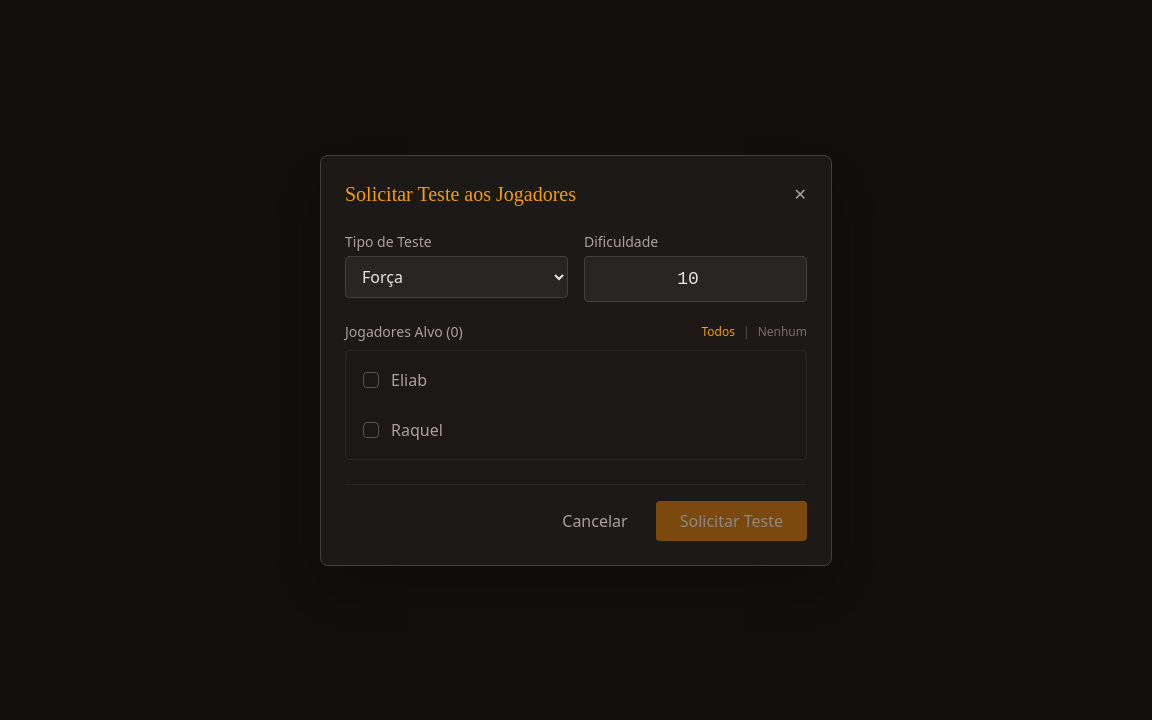
Test: MasterTestDialog: usos do Teste de Fé › a Tentação e o Testemunho têm os atalhos Punição 0, −20 e −50
The image size is (1152, 720).
Select "Fé" in the dropdown: (456,276) [345, 256, 568, 298]
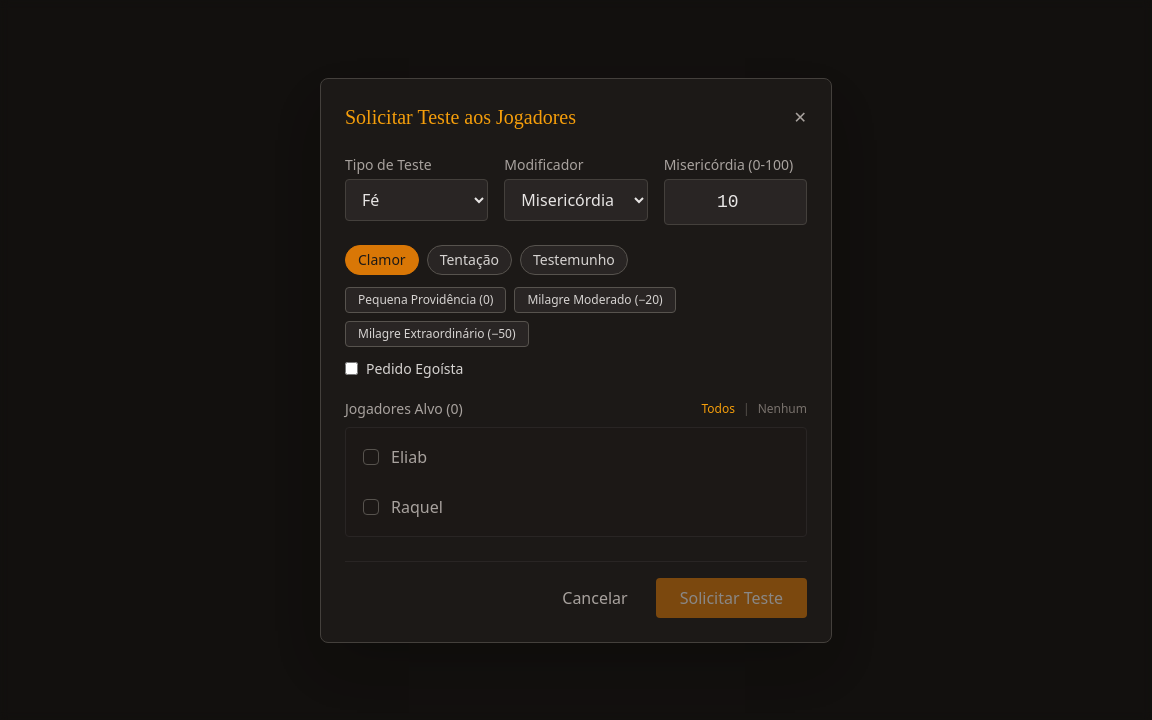
Click the radio button labelled "Tentação": (469,260) [427, 244, 512, 274]
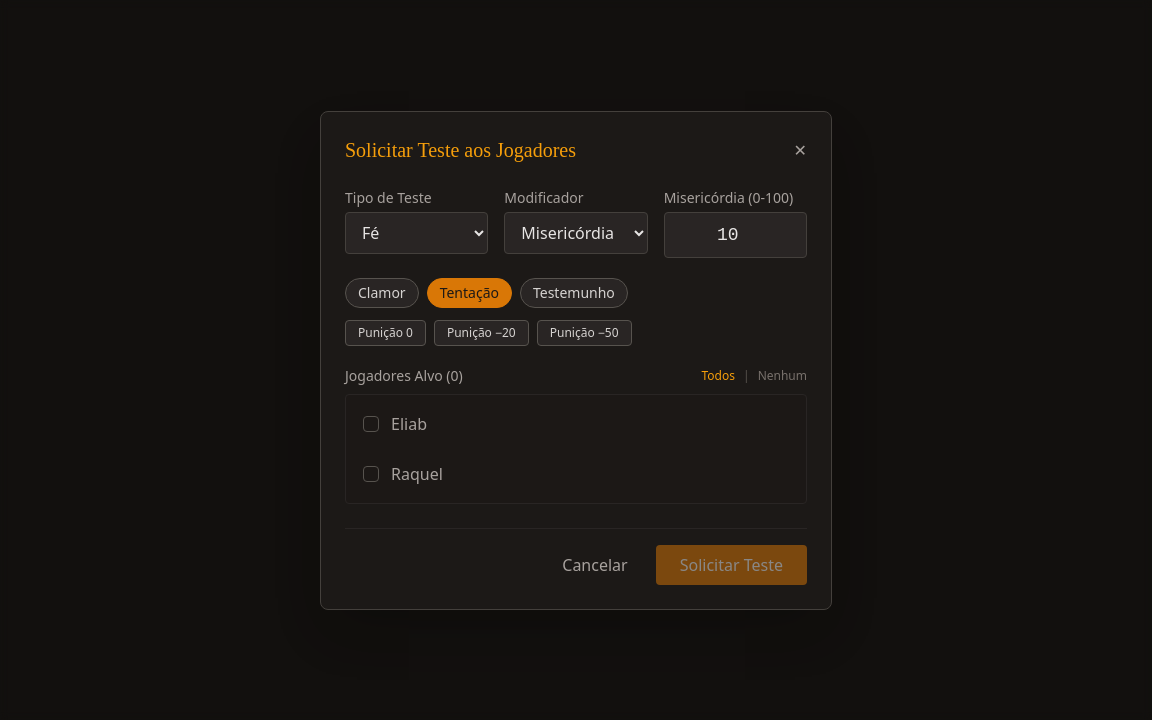
Expected: the button "Milagre Moderado" is gone
Click the button "Punição −50": (584,332) [537, 320, 632, 346]
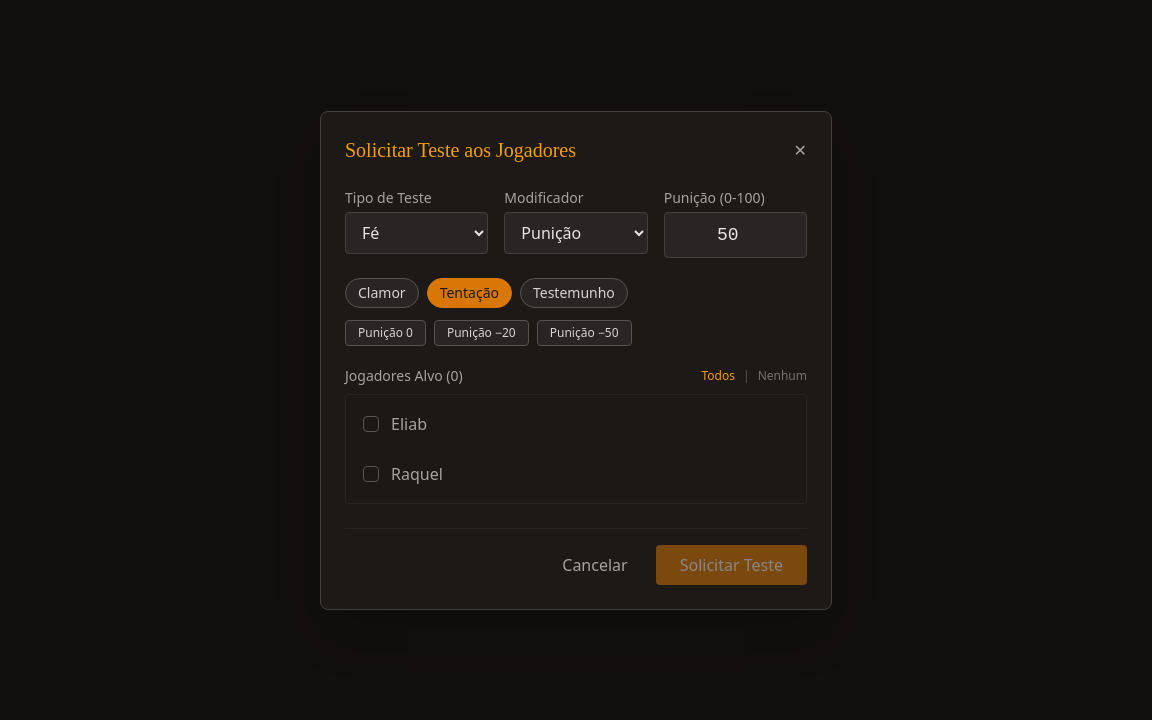
Expected: the number field holds "50", [664, 212, 807, 258]
Click the radio button labelled "Testemunho": (574,292) [520, 278, 628, 308]
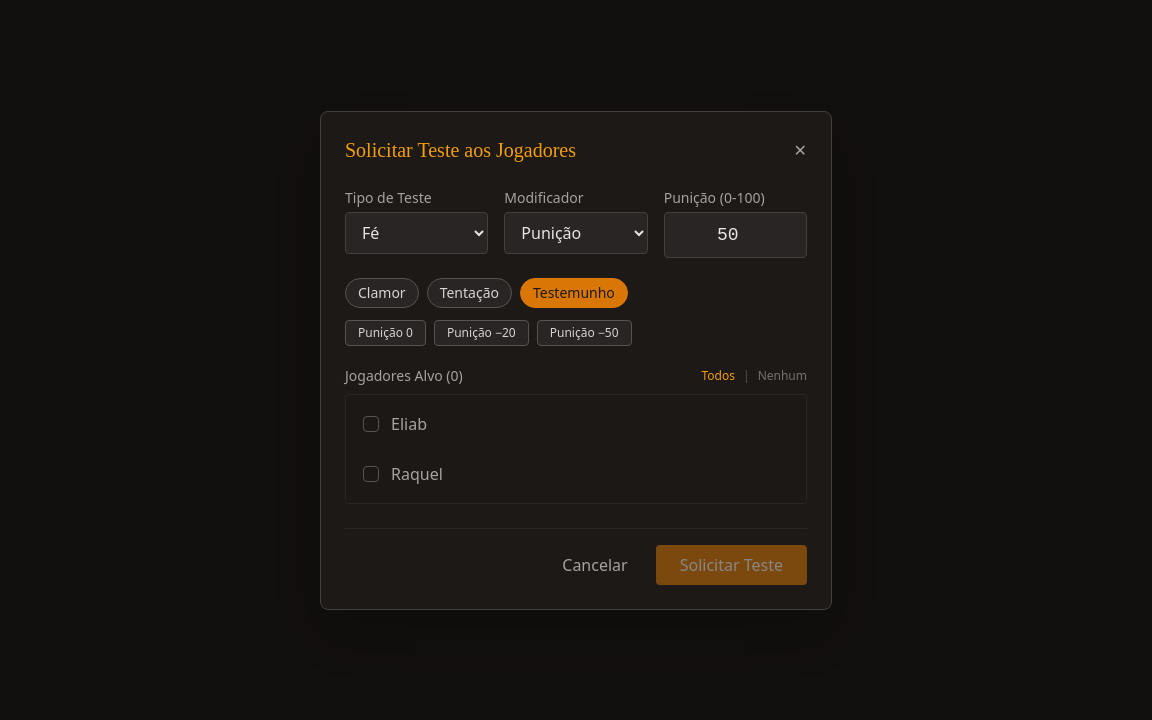
Click the button "Punição −20": (481,332) [434, 320, 529, 346]
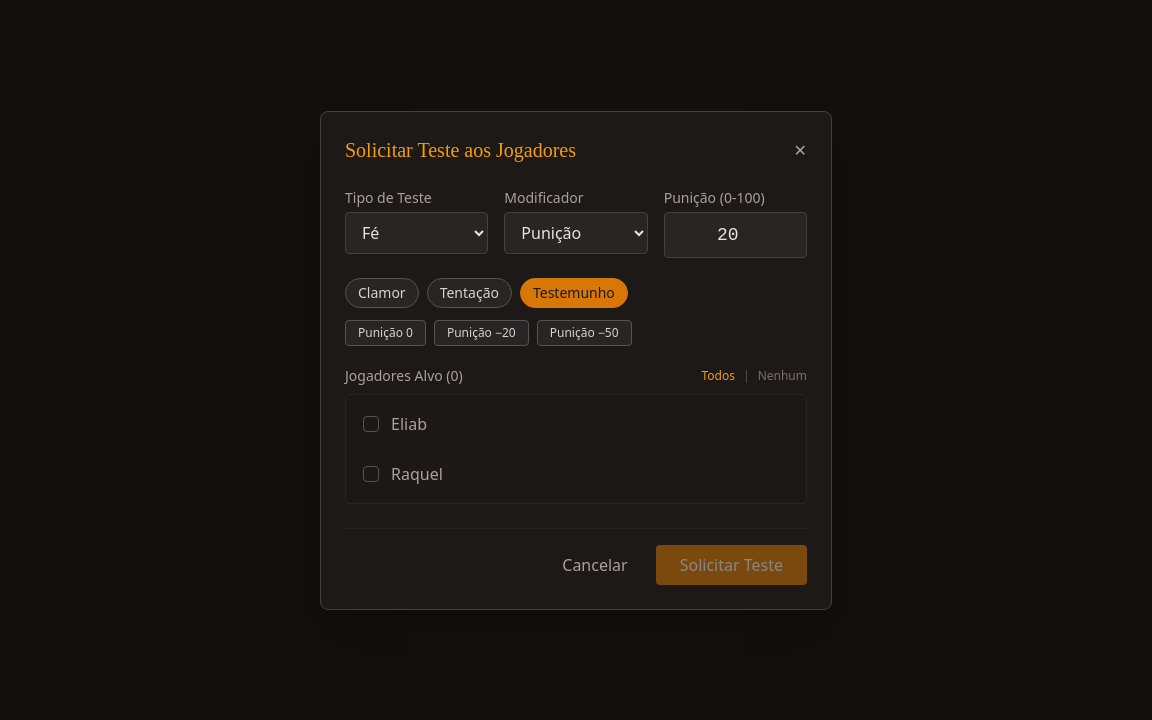
Expected: the button "Punição 0" is shown, [345, 320, 426, 346]
Expected: the number field holds "20", [664, 212, 807, 258]
